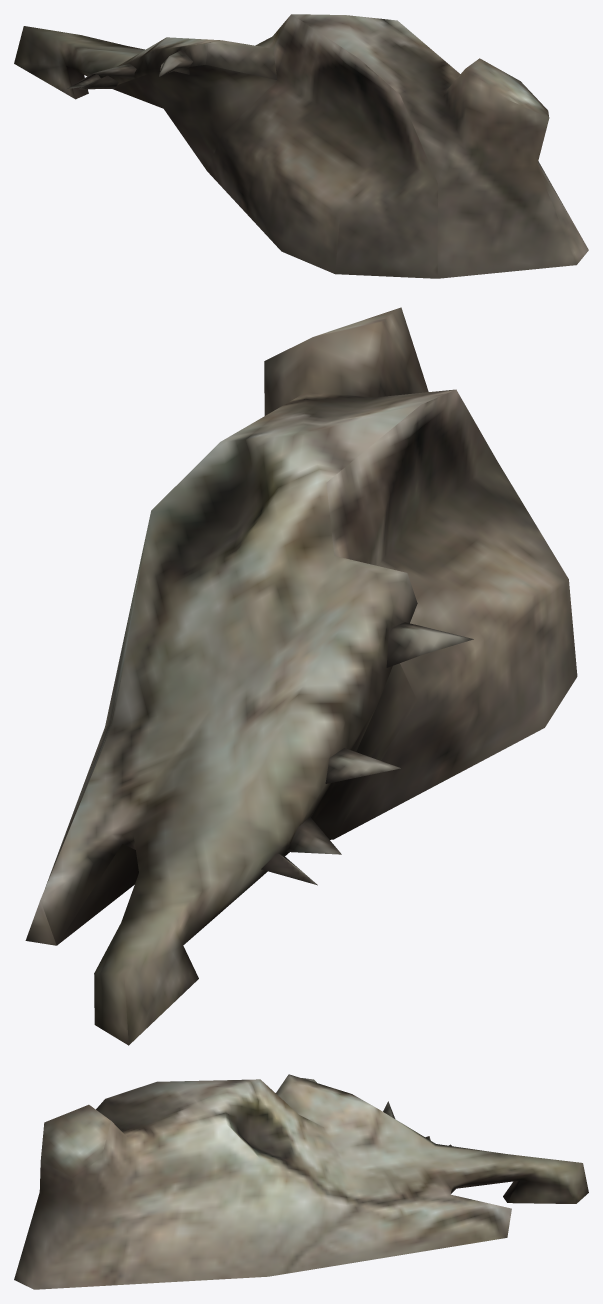
The model's file is huoshan_bone_01.FBX.
3 renders of one model, top to bottom at view 1: azimuth 30°, elevation 25°; view 2: azimuth 150°, elevation 25°; view 3: azimuth 270°, elevation 25°, orthographic. The views are drawn at different scales.
Parts seen in each view (by area): view 1: huoshan_bone_01; view 2: huoshan_bone_01; view 3: huoshan_bone_01.
Part boxes in pixels (x1,y1,x2,y2): huoshan_bone_01: (14,14,588,278); huoshan_bone_01: (25,307,577,1045); huoshan_bone_01: (14,1074,588,1289).
Size of the model in its own units: 88.61 by 53.93 by 188.
